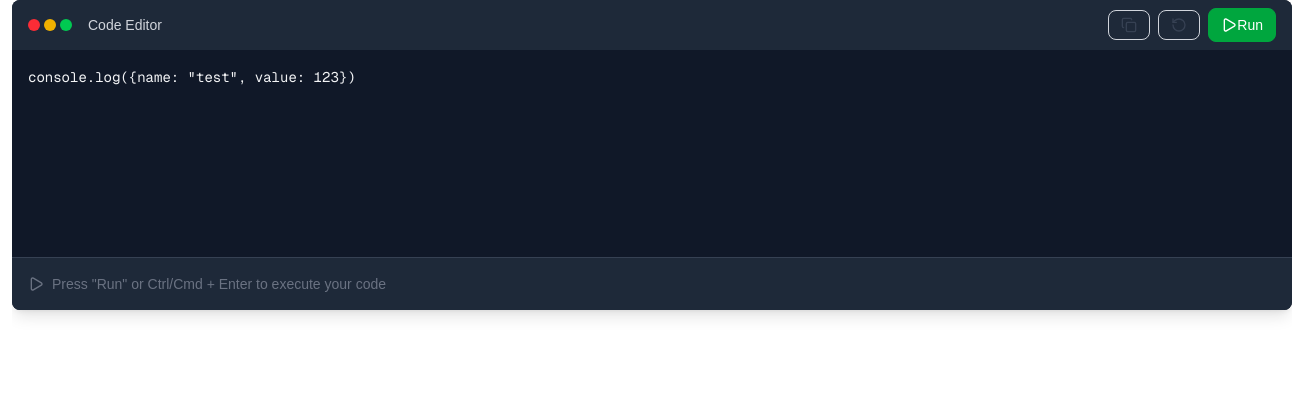
CodeEditor Component › handles object output correctly
The image size is (1304, 420).
Click the button "Run": (1242, 25) [1208,8,1276,42]
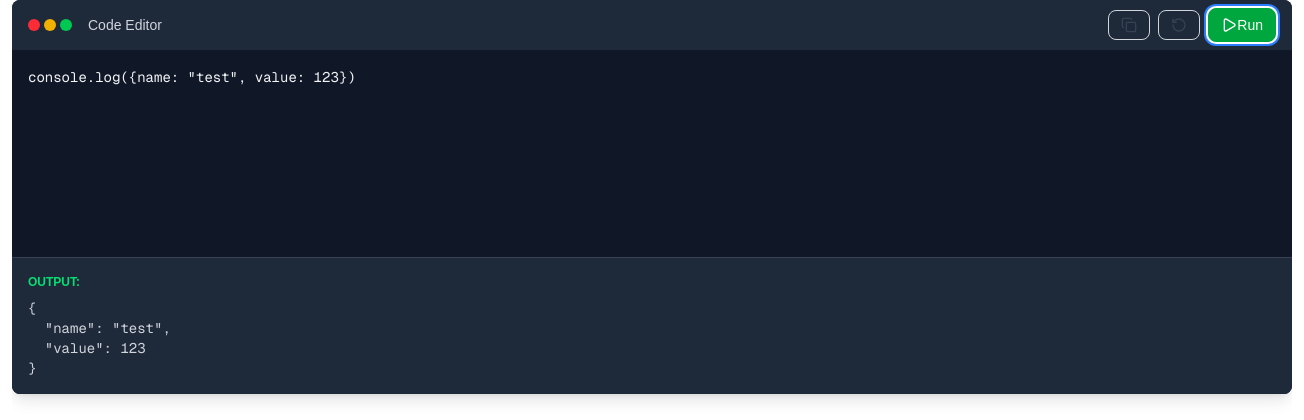
Now the text "{ \"name\": \"test\", \"value\": 123 }" is shown, box [28,299,171,377]
